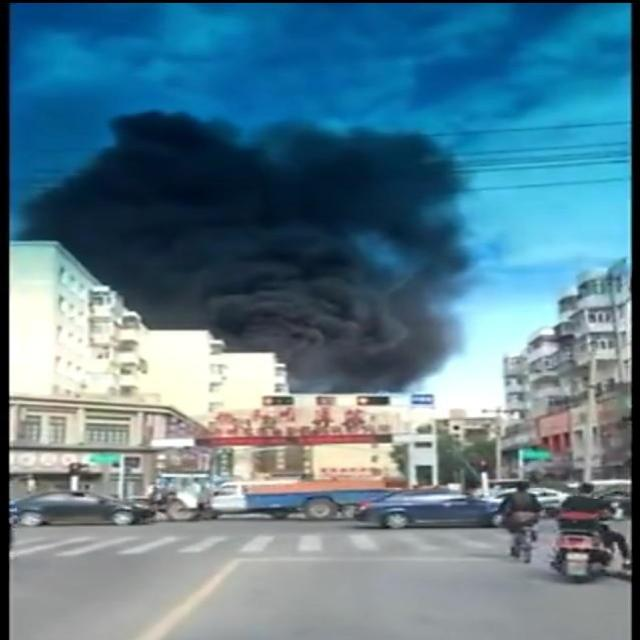smoke: (30, 110, 473, 401)
